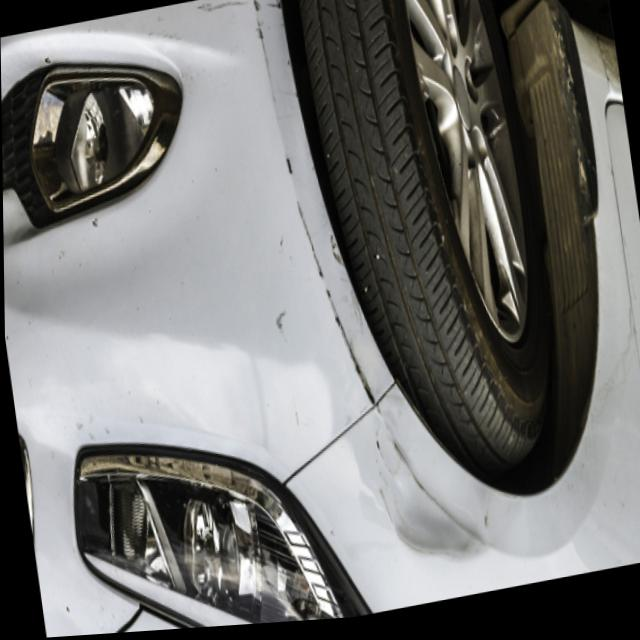Dent: (366, 460, 505, 595)
